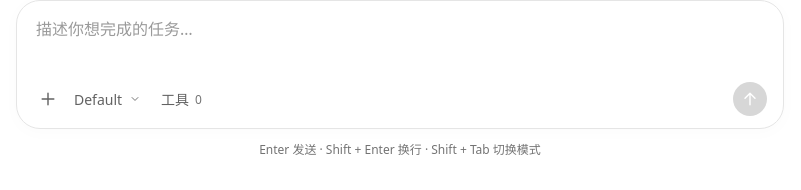
Test case: validates numeric skill names with the same Read requirement
Expected: the button with aria-label "权限模式：Default" is shown, [66,82,150,116]
Type "/123-review task" into the text box named "消息" at [400, 42], box [33,16,767,69]
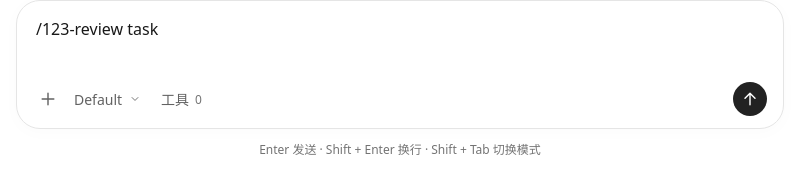
Press Enter in the text box named "消息", box [33,16,767,69]
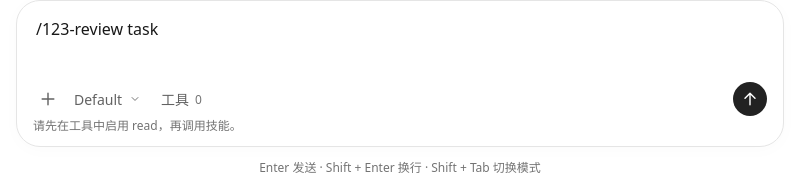
Expected: the text "请先在工具中启用 read，再调用技能。" is shown, [33,117,242,134]
